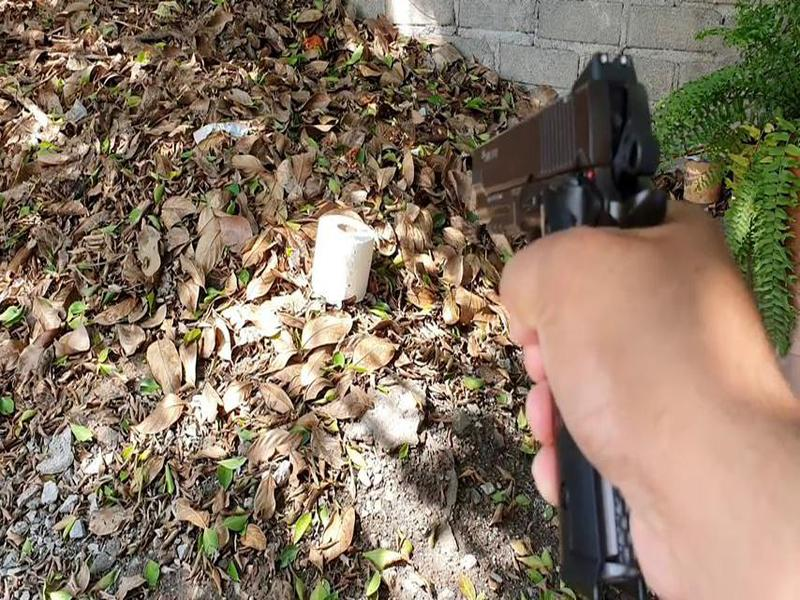Pistola: (453, 42, 715, 599)
